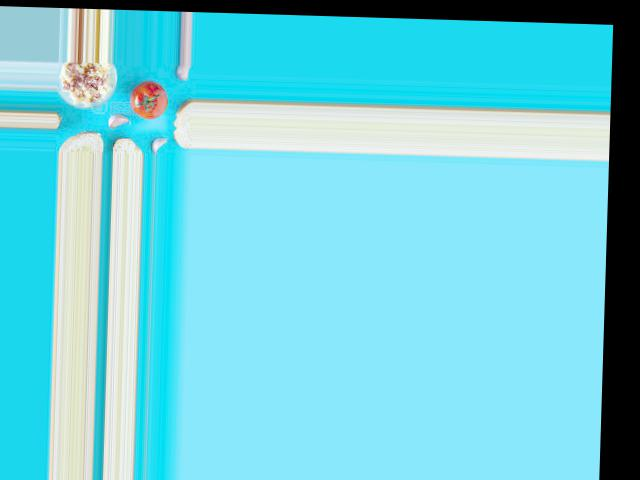tomato: (131, 80, 168, 119)
